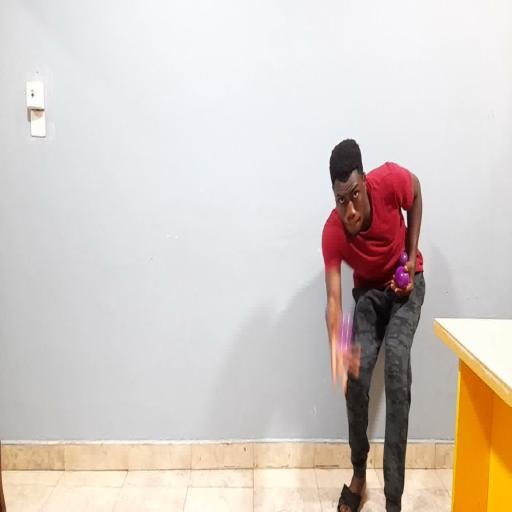plastic-ball: (335, 310, 354, 348)
